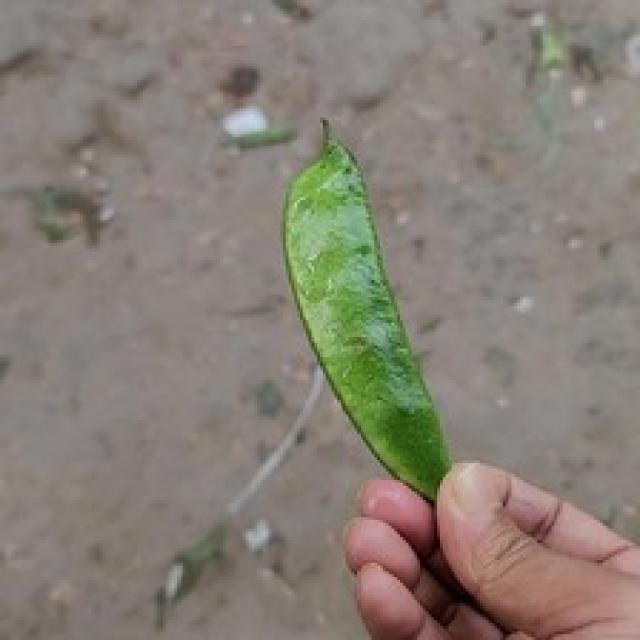Bean: (280, 114, 451, 503)
